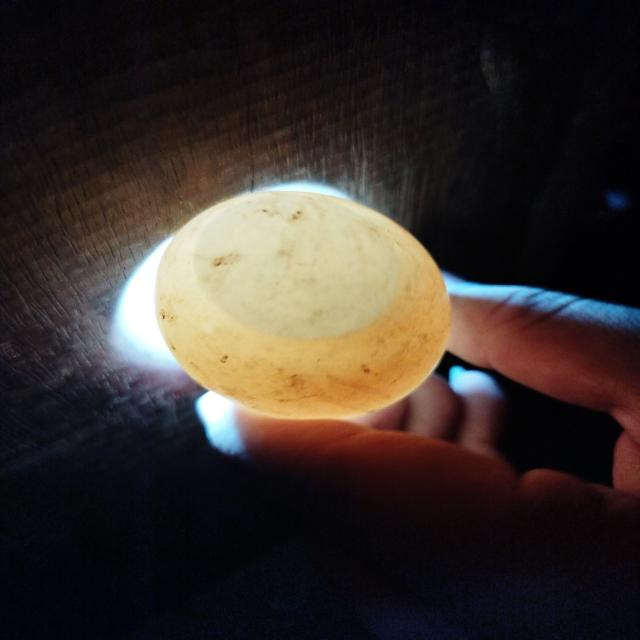Camara de Ar: (194, 189, 399, 336)
